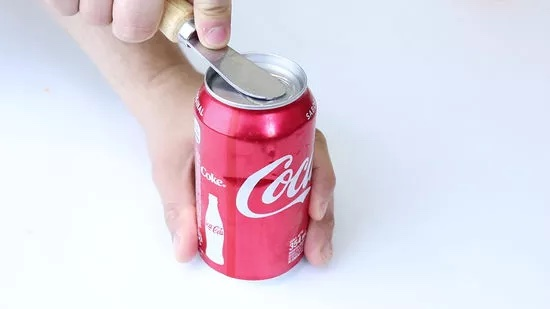can: (186, 48, 324, 285)
